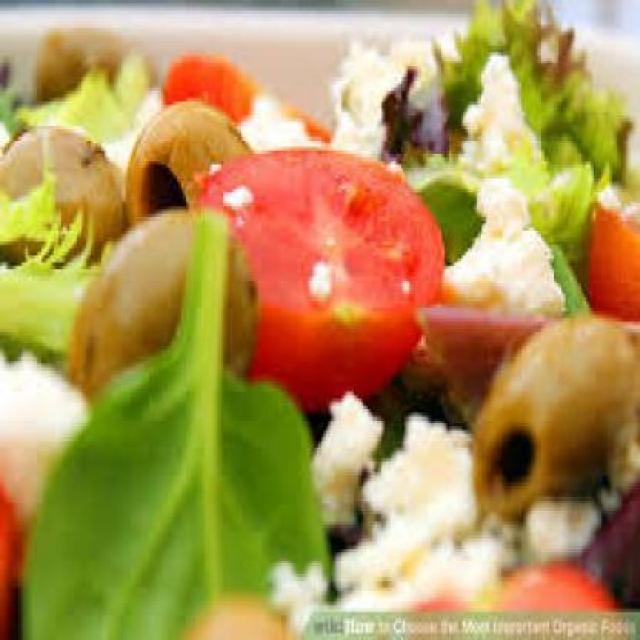BIODEGRADABLE: (16, 209, 333, 637), (198, 144, 442, 405), (68, 203, 258, 409), (472, 304, 638, 521), (433, 7, 629, 175), (308, 556, 617, 636), (416, 175, 589, 308), (414, 161, 608, 262), (440, 168, 563, 310), (0, 200, 109, 360), (0, 123, 126, 259), (0, 342, 91, 518), (124, 91, 251, 217), (160, 49, 326, 136), (366, 412, 480, 532), (412, 297, 545, 392), (326, 31, 428, 151), (304, 388, 384, 538), (456, 46, 547, 172), (35, 24, 158, 94), (574, 462, 638, 595), (19, 53, 144, 119), (588, 182, 638, 315), (377, 66, 448, 154), (517, 486, 598, 560), (331, 528, 431, 581), (238, 88, 324, 143), (1, 448, 25, 637), (270, 560, 328, 618), (0, 70, 37, 125)
